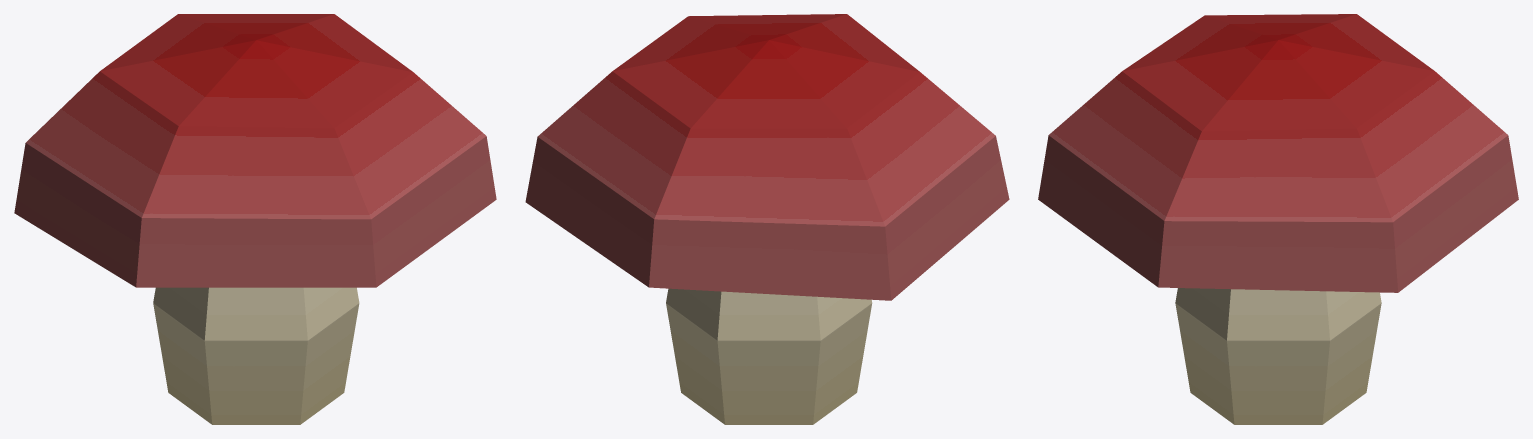
Rendered from Mushroom.fbx.
3 views of the same model, side by side, from view 1: azimuth 30°, elevation 25°; view 2: azimuth 150°, elevation 25°; view 3: azimuth 270°, elevation 25° (orthographic).
Parts seen in each view (by area): view 1: Mushroom; view 2: Mushroom; view 3: Mushroom.
Part boxes in pixels (bbox=[...]): Mushroom: bbox=[14, 14, 496, 424]; Mushroom: bbox=[525, 14, 1009, 424]; Mushroom: bbox=[1038, 14, 1518, 424].
Bounding box in the file's own units: 0.5972 × 0.5501 × 0.6797.
